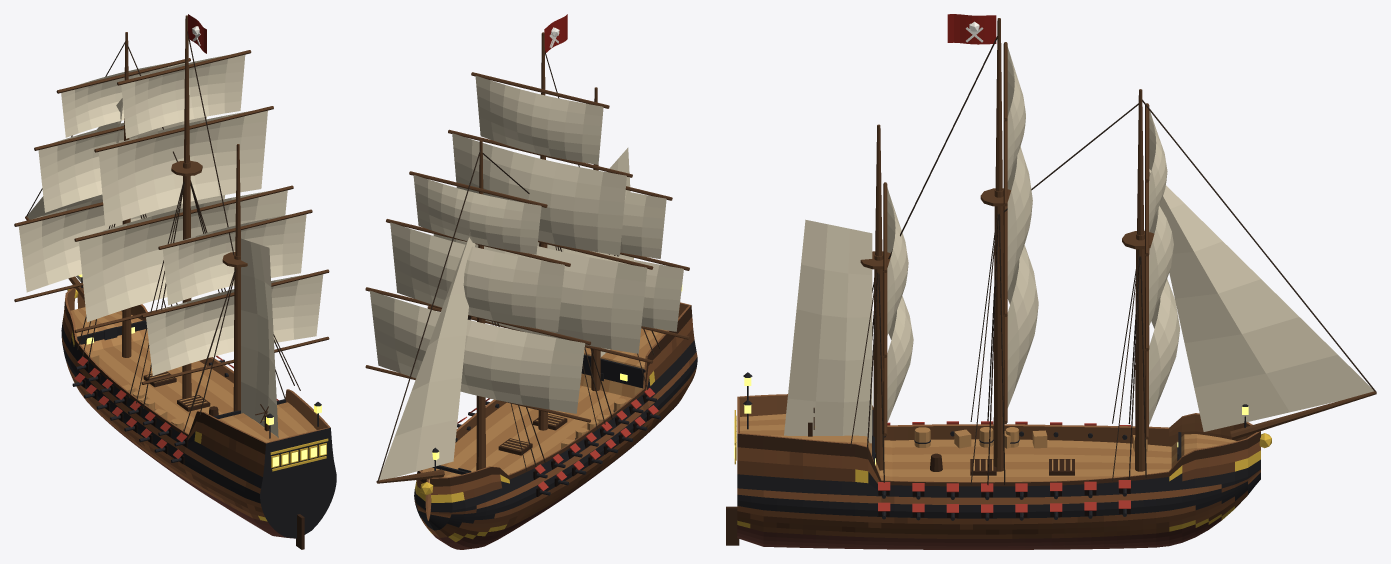
The model's file is warship.glb.
3 renders of one model, left to right at view 1: azimuth 30°, elevation 25°; view 2: azimuth 150°, elevation 25°; view 3: azimuth 270°, elevation 25°, orthographic. The views are drawn at different scales.
Visible parts, largest first — view 1: Hull, Sail_1_1, Sail_1_0, Sail_2_0, Sail_2_1, Sail_1_2, Sail_spanker, Sail_0_0, Sail_0_1, Sail_0_2, Sail_jib, Flag; view 2: Hull, Sail_0_0, Sail_0_1, Sail_1_1, Sail_jib, Sail_1_0, Sail_1_2, Sail_0_2, Sail_2_0, Sail_2_1, Flag, Sail_spanker; view 3: Hull, Sail_jib, Sail_spanker, Sail_1_0, Sail_0_0, Sail_1_1, Sail_2_0, Sail_2_1, Sail_0_1, Sail_1_2, Flag, Sail_0_2.
Boxes of the visible parts, x1,y1,x2,y2 form: Hull: (14,15,336,549); Sail_1_1: (98,110,267,226); Sail_1_0: (79,190,287,322); Sail_2_0: (146,274,323,375); Sail_2_1: (162,214,306,305); Sail_1_2: (121,54,245,138); Sail_spanker: (241,238,278,437); Sail_0_0: (18,195,224,292); Sail_0_1: (38,116,206,212); Sail_0_2: (61,63,184,137); Sail_jib: (27,98,122,282); Flag: (188,14,206,53); Hull: (365,32,697,549); Sail_0_0: (370,290,585,413); Sail_0_1: (390,222,564,331); Sail_1_1: (452,133,626,255); Sail_jib: (379,232,475,480); Sail_1_0: (433,234,647,353); Sail_1_2: (475,75,603,164); Sail_0_2: (413,175,541,254); Sail_2_0: (537,242,683,331); Sail_2_1: (620,191,666,258); Flag: (544,14,567,52); Sail_spanker: (600,147,633,357); Hull: (726,18,1376,549); Sail_jib: (1149,169,1373,431); Sail_spanker: (784,219,872,443); Sail_1_0: (1007,245,1038,407); Sail_0_0: (1149,248,1179,424); Sail_1_1: (1007,147,1032,290); Sail_2_0: (887,296,913,422); Sail_2_1: (887,187,908,335); Sail_0_1: (1149,206,1173,326); Sail_1_2: (1007,47,1025,181); Flag: (947,14,996,44); Sail_0_2: (1149,111,1167,231).
Bounding box in the file's own units: 15.77 × 31.25 × 34.79.
